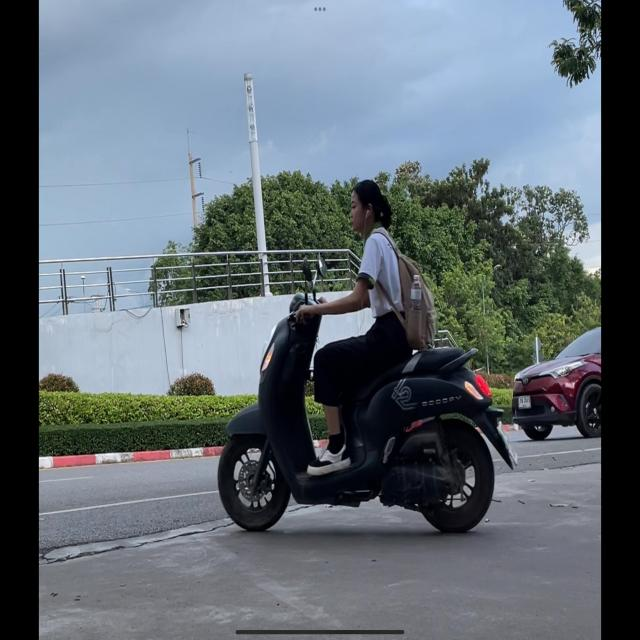seatbelt: (348, 179, 390, 234)
